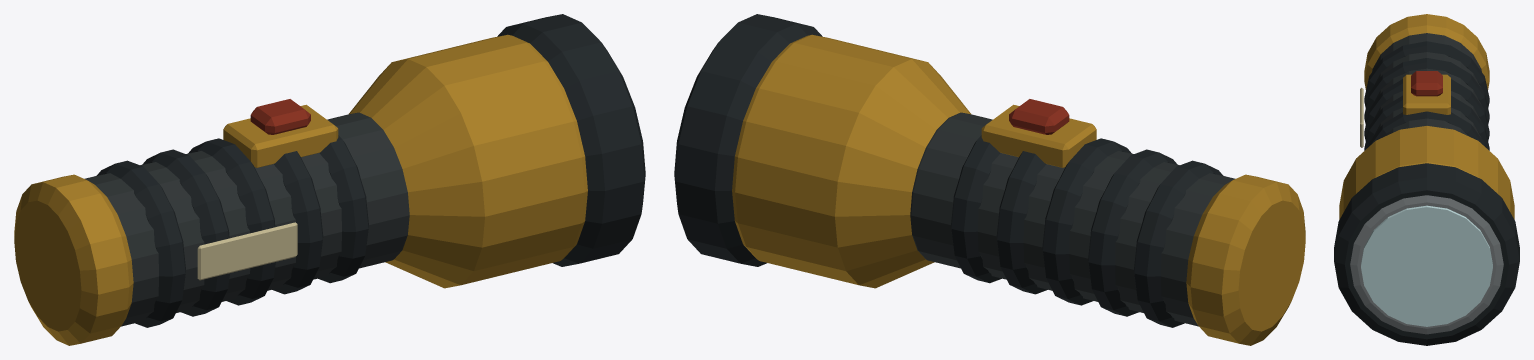
File: SM_Flashlight_A.fbx
The picture shows the model from 3 angles, left to right: view 1: azimuth 30°, elevation 25°; view 2: azimuth 150°, elevation 25°; view 3: azimuth 270°, elevation 25°; orthographic projection. The views are drawn at different scales.
Visible parts, largest first — view 1: SM_Flashlight_A; view 2: SM_Flashlight_A; view 3: SM_Flashlight_A.
Part boxes in pixels (<box>): SM_Flashlight_A: <box>14,14,645,345</box>; SM_Flashlight_A: <box>674,14,1305,345</box>; SM_Flashlight_A: <box>1334,14,1519,345</box>.
Size of the model in its own units: 10.4 by 26.4 by 10.4.
